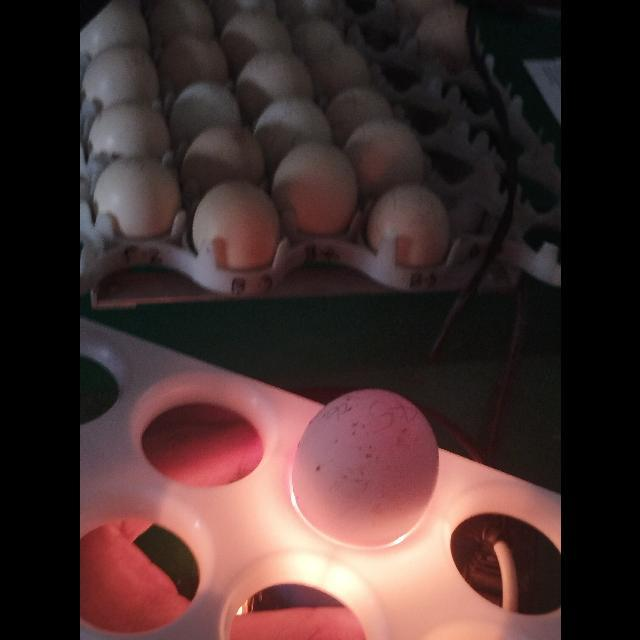Fertile: (296, 384, 446, 546)
